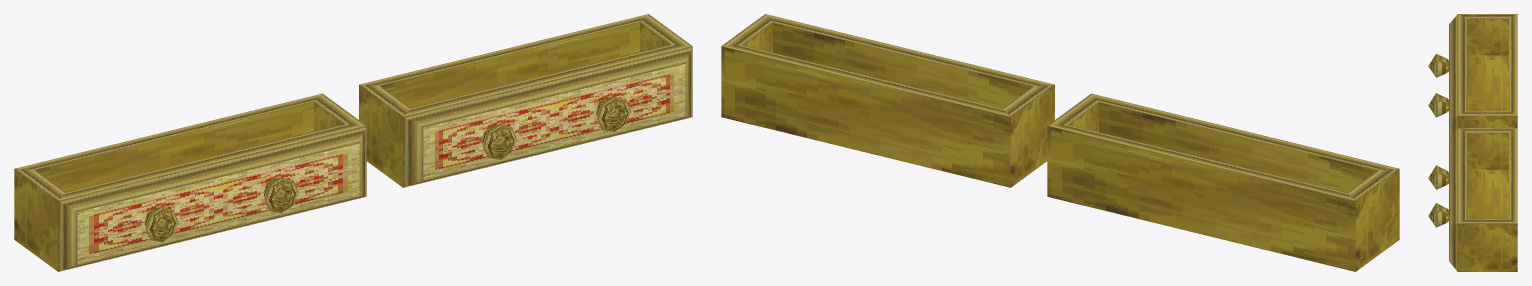
Rendered from oto1.glb.
The picture shows the model from 3 angles, left to right: view 1: azimuth 30°, elevation 25°; view 2: azimuth 150°, elevation 25°; view 3: azimuth 270°, elevation 25°; orthographic projection. The views are drawn at different scales.
Visible parts, largest first — view 1: oto1_n00; view 2: oto1_n00; view 3: oto1_n00.
Part boxes in pixels (box(x1,y1,x2,y2)): oto1_n00: box(14, 14, 692, 271); oto1_n00: box(721, 14, 1399, 271); oto1_n00: box(1428, 14, 1517, 271).
Bounding box in the file's own units: 506 × 54 × 91.
Materials: 4 (4 with a texture image).
